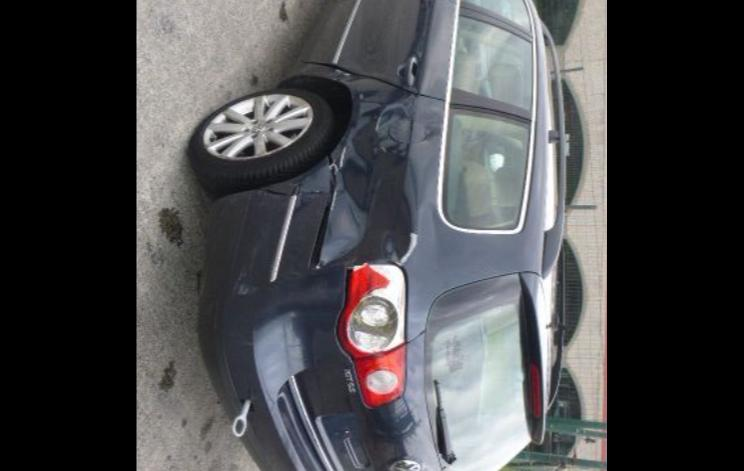Broken part: (300, 60, 444, 102), (306, 154, 338, 272)
Cracked: (338, 262, 408, 358)
Dent: (318, 68, 446, 268), (260, 156, 330, 212)
Paint chip: (398, 232, 420, 266), (330, 190, 338, 214), (328, 158, 338, 176), (340, 144, 348, 166), (375, 112, 383, 130), (334, 68, 350, 76), (316, 262, 322, 268)
Scratch: (232, 224, 270, 296)
